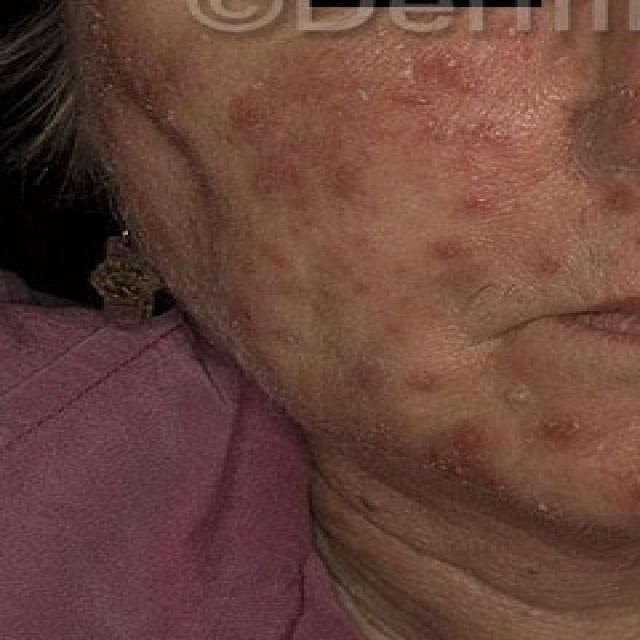Rosacea: (242, 69, 518, 253)
